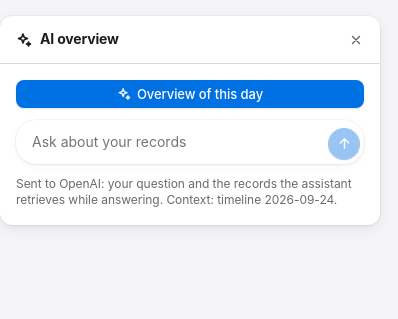
Test: Ask AI chat › shows the service's refusal instead of an answer
Type "what happened?" into the text box labelled "Ask about your records" at coordinates (176, 142), box [32,124,320,160]
Then press Enter
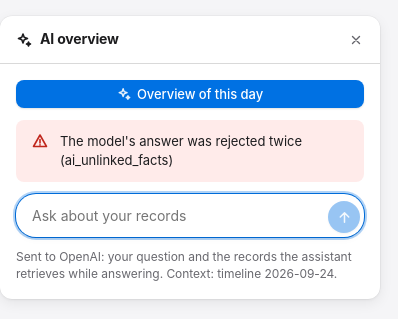
Expected: the message shows "rejected twice", [60,133,302,168]
